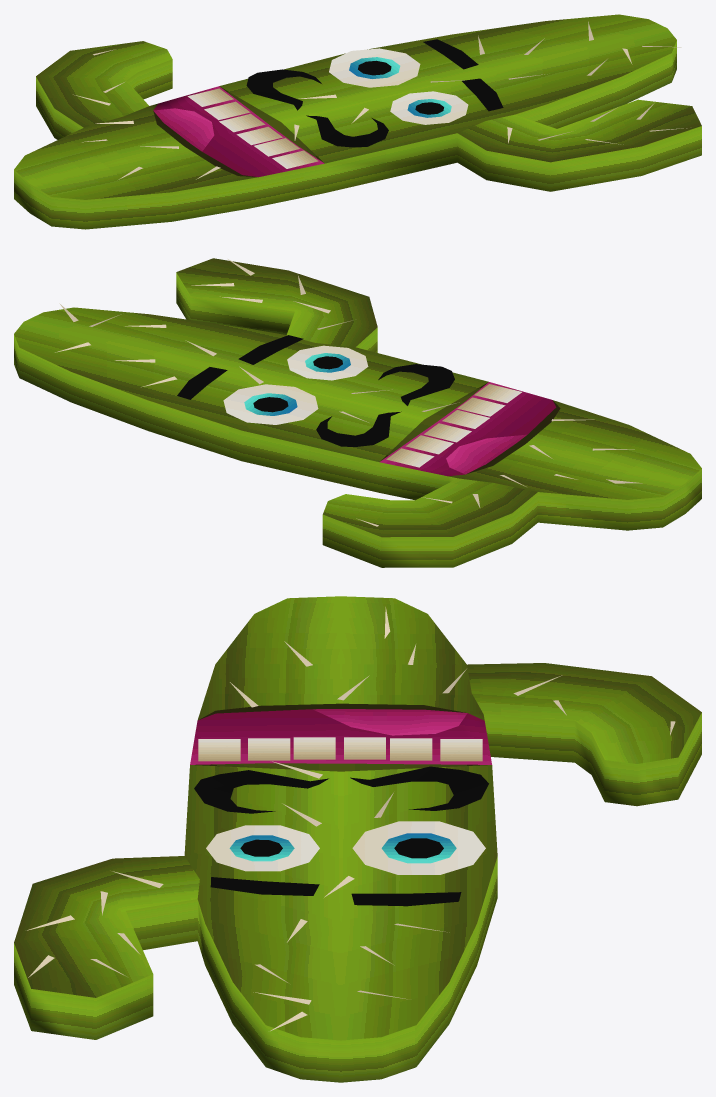
File: Cactus.glb
3 views of the same model, one above another, from view 1: azimuth 30°, elevation 25°; view 2: azimuth 150°, elevation 25°; view 3: azimuth 270°, elevation 25° (orthographic). The views are drawn at different scales.
Visible parts, largest first — view 1: Cactus; view 2: Cactus; view 3: Cactus.
Boxes of the visible parts, bbox=[...] form: Cactus: bbox=[14, 14, 701, 229]; Cactus: bbox=[14, 258, 701, 567]; Cactus: bbox=[14, 596, 701, 1082].
Bounding box in the file's own units: 8.25 × 0.515 × 5.4.
1 material, 1 textured.
